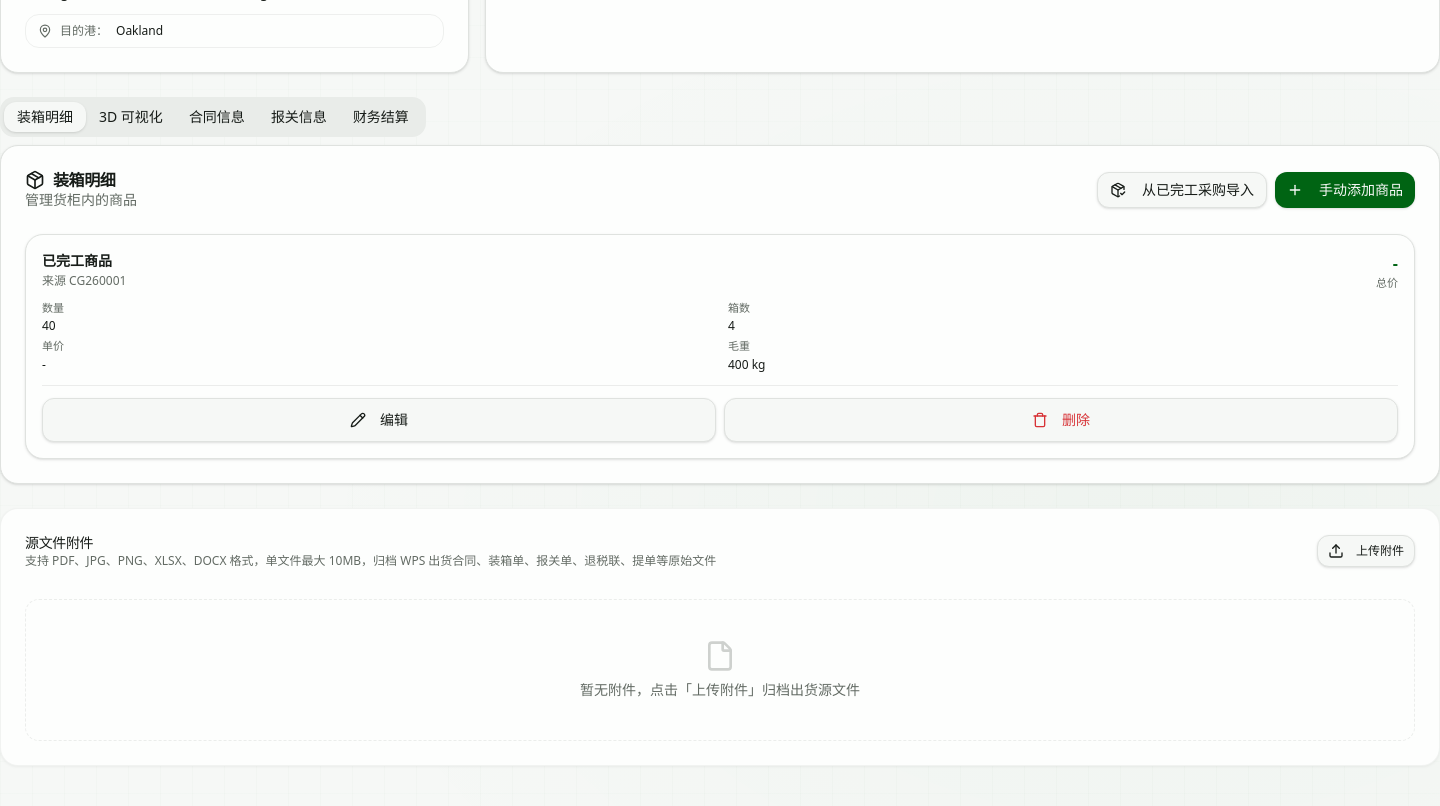
Test: SalesDetailPage 交互逻辑 › 手机装箱卡片编辑保持采购来源数量、箱数、重量和尺寸锁定
(page scrolled)
Click the button with aria-label "编辑 已完工商品".
click(379, 420)  # box [42,398,716,442]
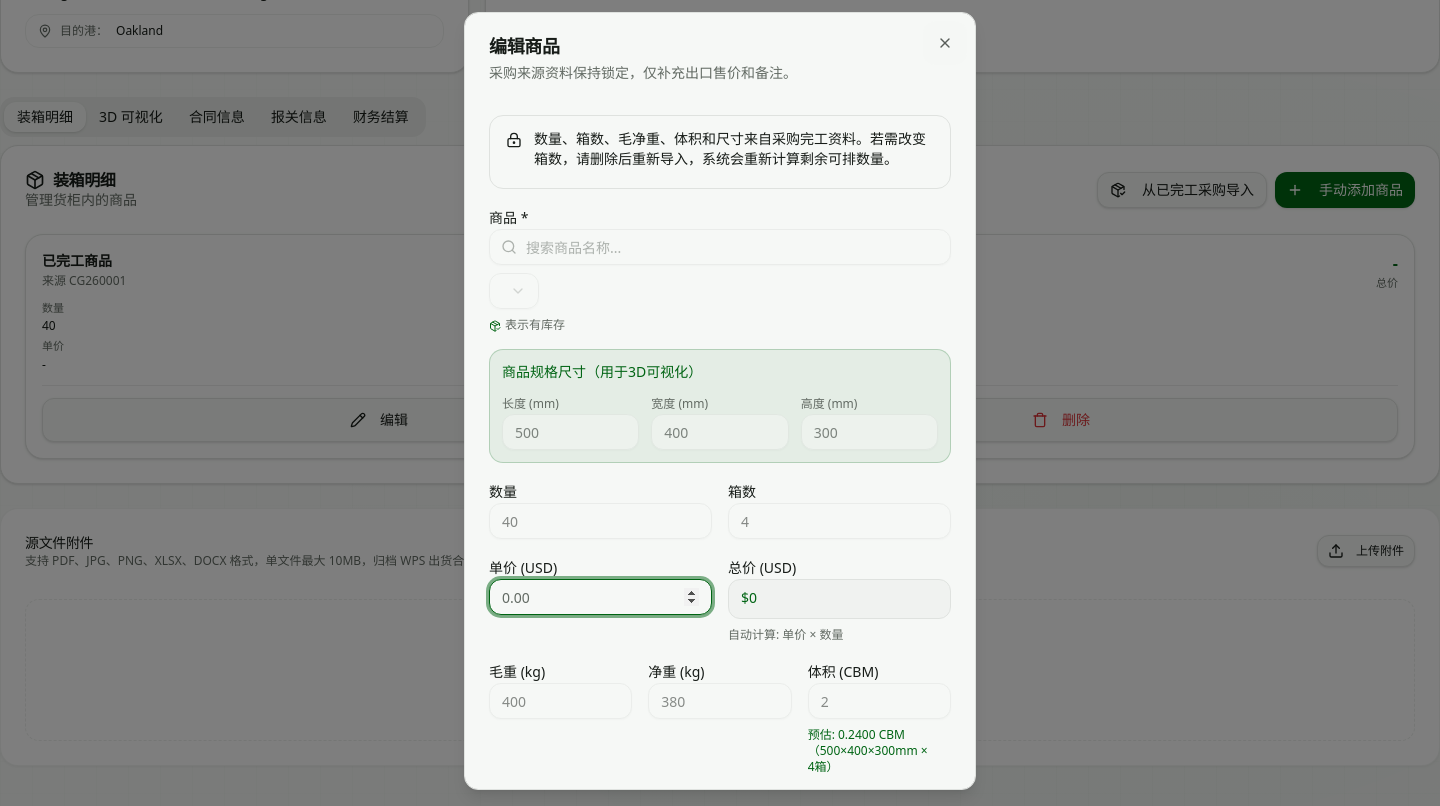
Expected: the text "数量、箱数、毛净重、体积和尺寸来自采购完工资料。若需改变箱数，请删除后重新导入，系统会重新计算剩余可排数量。" is shown, [506,129,934,169]
Expected: the number field named "数量" is disabled, [489,503,712,539]
Expected: the number field named "箱数" is disabled, [728,503,951,539]
